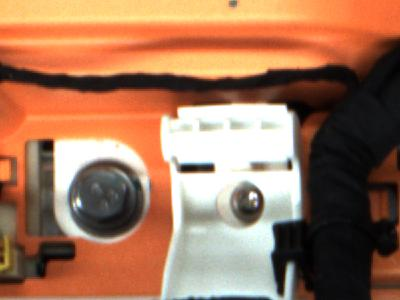nut_b: (61, 158, 152, 240)
